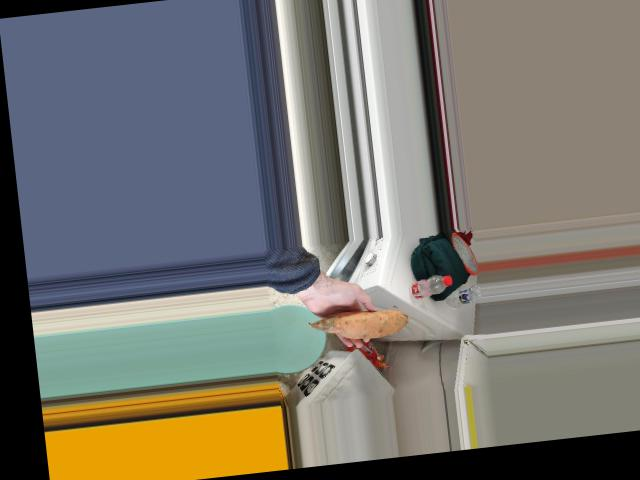sweet_potato: (327, 299, 417, 341)
